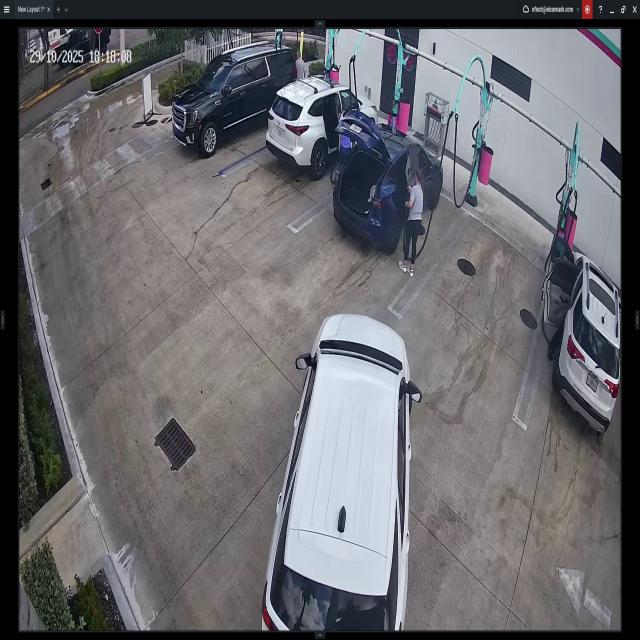Car: (264, 313, 422, 634), (332, 105, 444, 252), (546, 236, 622, 439), (170, 50, 298, 157), (268, 74, 378, 180)
